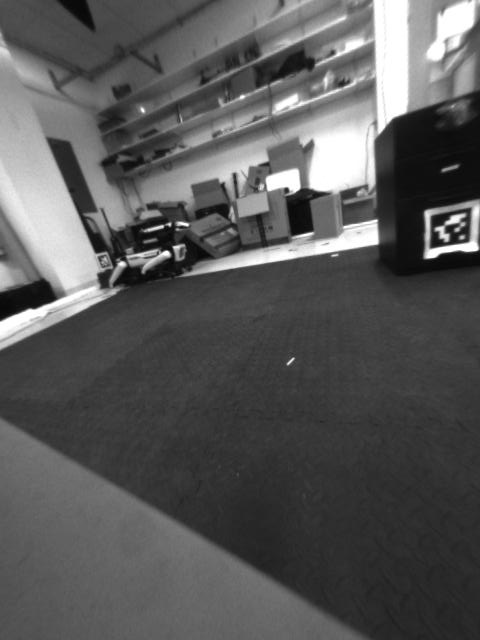drawer: (426, 98, 480, 137)
